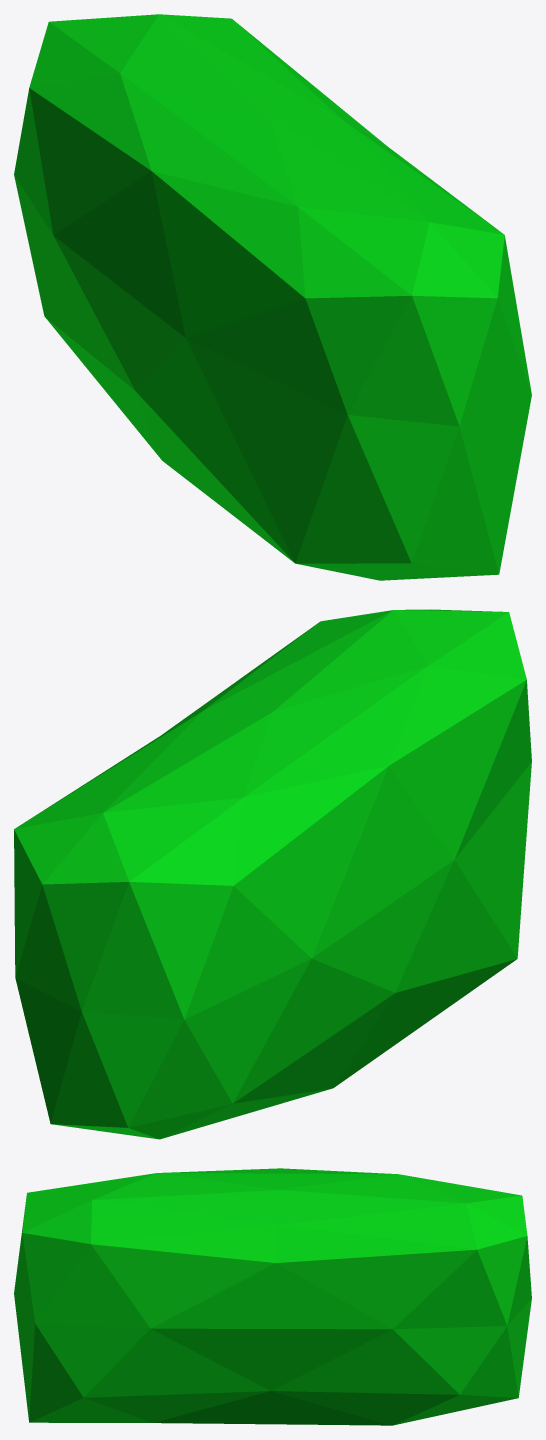
File: häck.fbx
3 renders of one model, top to bottom at view 1: azimuth 30°, elevation 25°; view 2: azimuth 150°, elevation 25°; view 3: azimuth 270°, elevation 25°, orthographic. The views are drawn at different scales.
Parts seen in each view (by area): view 1: Icosphere; view 2: Icosphere; view 3: Icosphere.
Part boxes in pixels (x1=…): Icosphere: x1=14, y1=14, x2=531, y2=580; Icosphere: x1=14, y1=609, x2=531, y2=1139; Icosphere: x1=14, y1=1168, x2=531, y2=1425.
Size of the model in its own units: 215 by 292 by 584.
